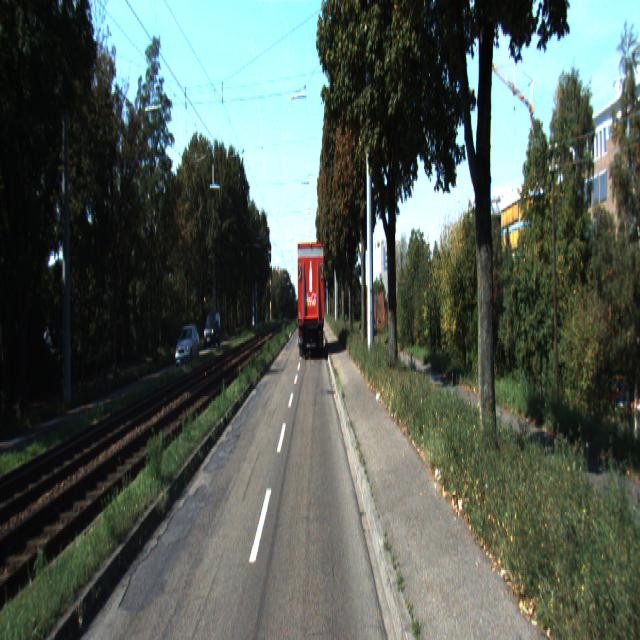Car: (296, 240, 326, 361), (175, 324, 201, 369), (203, 311, 222, 351)
